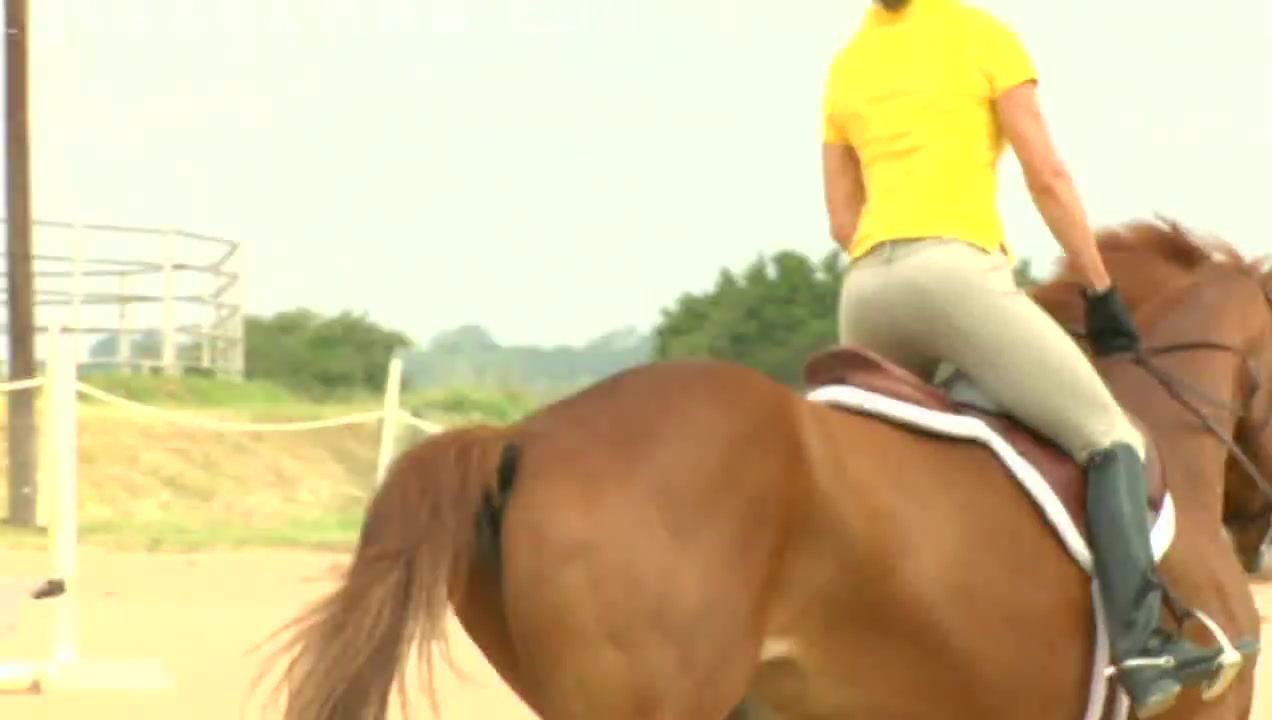horse: (267, 220, 1271, 720)
